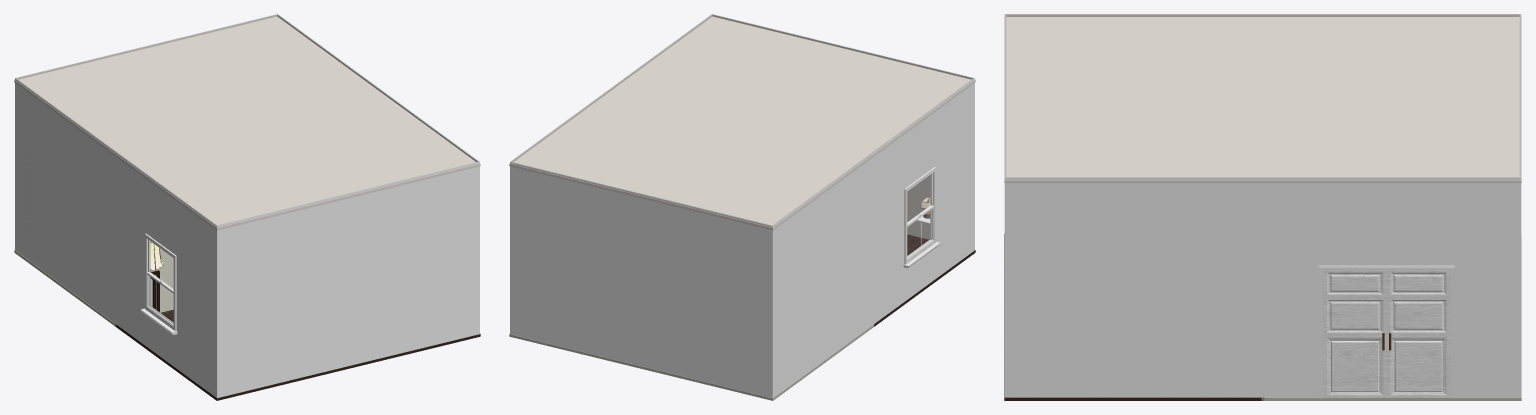
The model's file is ProcTHOR-Train-91.glb.
3 views of the same model, side by side, from view 1: azimuth 30°, elevation 25°; view 2: azimuth 150°, elevation 25°; view 3: azimuth 270°, elevation 25° (orthographic). The views are drawn at different scales.
Visible parts, largest first — view 1: WallInside#wall|exterior|0.00|7.41|5.56|7.41, Ceiling#room|3|c, Ceiling#room|2|c, WallInside#wall|exterior|5.56|0.00|5.56|3.71, WallInside#wall|exterior|5.56|3.71|5.56|7.41, Window_Hung_44x60, Floor#room|3|f, Floor#room|2|f, WallInside#wall|2|0.00|0.00|5.56|0.00, Floor_Lamp_11; view 2: WallInside#wall|exterior|0.00|0.00|5.56|0.00, Ceiling#room|2|c, Ceiling#room|3|c, WallInside#wall|exterior|5.56|0.00|5.56|3.71, WallInside#wall|exterior|5.56|3.71|5.56|7.41, WallInside#wall|3|0.00|7.41|5.56|7.41, Window_Hung_44x60, Floor#room|2|f, Floor#room|3|f; view 3: WallInside#wall|exterior|0.00|3.71|0.00|7.41, Ceiling#room|2|c, Ceiling#room|3|c, WallInside#wall|exterior|0.00|0.00|0.00|3.71, Doorway_Door_8b, Doorway_Door_8a, Doorway_Double_8, Floor#room|3|f, Floor#room|2|f, WallInside#wall|2|5.56|0.00|5.56|3.71, WallInside#wall|3|5.56|3.71|5.56|7.41, WallInside#wall|exterior|0.00|0.00|5.56|0.00 (+1 smaller).
Part boxes in pixels (x1,y1,x2,y2): WallInside#wall|exterior|0.00|7.41|5.56|7.41: (217, 162, 479, 398); Ceiling#room|3|c: (115, 90, 480, 230); Ceiling#room|2|c: (14, 16, 377, 155); WallInside#wall|exterior|5.56|0.00|5.56|3.71: (15, 78, 116, 323); WallInside#wall|exterior|5.56|3.71|5.56|7.41: (115, 152, 216, 397); Window_Hung_44x60: (140, 233, 177, 334); Floor#room|3|f: (115, 309, 480, 400); Floor#room|2|f: (14, 248, 173, 325); WallInside#wall|2|0.00|0.00|5.56|0.00: (15, 14, 277, 79); Floor_Lamp_11: (150, 242, 163, 312); WallInside#wall|exterior|0.00|0.00|5.56|0.00: (510, 162, 772, 398); Ceiling#room|2|c: (509, 89, 873, 230); Ceiling#room|3|c: (613, 16, 975, 156); WallInside#wall|exterior|5.56|0.00|5.56|3.71: (773, 152, 874, 397); WallInside#wall|exterior|5.56|3.71|5.56|7.41: (874, 78, 974, 323); WallInside#wall|3|0.00|7.41|5.56|7.41: (712, 14, 973, 239); Window_Hung_44x60: (903, 167, 940, 268); Floor#room|2|f: (509, 324, 873, 400); Floor#room|3|f: (874, 234, 975, 326); WallInside#wall|exterior|0.00|3.71|0.00|7.41: (1005, 177, 1263, 397); Ceiling#room|2|c: (1261, 16, 1521, 183); Ceiling#room|3|c: (1004, 16, 1264, 183); WallInside#wall|exterior|0.00|0.00|0.00|3.71: (1262, 177, 1520, 397); Doorway_Door_8b: (1323, 270, 1386, 397); Doorway_Door_8a: (1387, 270, 1450, 397); Doorway_Double_8: (1318, 265, 1454, 398); Floor#room|3|f: (1004, 234, 1264, 400); Floor#room|2|f: (1261, 234, 1521, 400); WallInside#wall|2|5.56|0.00|5.56|3.71: (1262, 14, 1520, 16); WallInside#wall|3|5.56|3.71|5.56|7.41: (1005, 14, 1263, 16); WallInside#wall|exterior|0.00|0.00|5.56|0.00: (1520, 14, 1521, 397).
Size of what is drawn, in the model's own units: 5.77 by 3.54 by 7.45.
164 materials, 68 textured.
